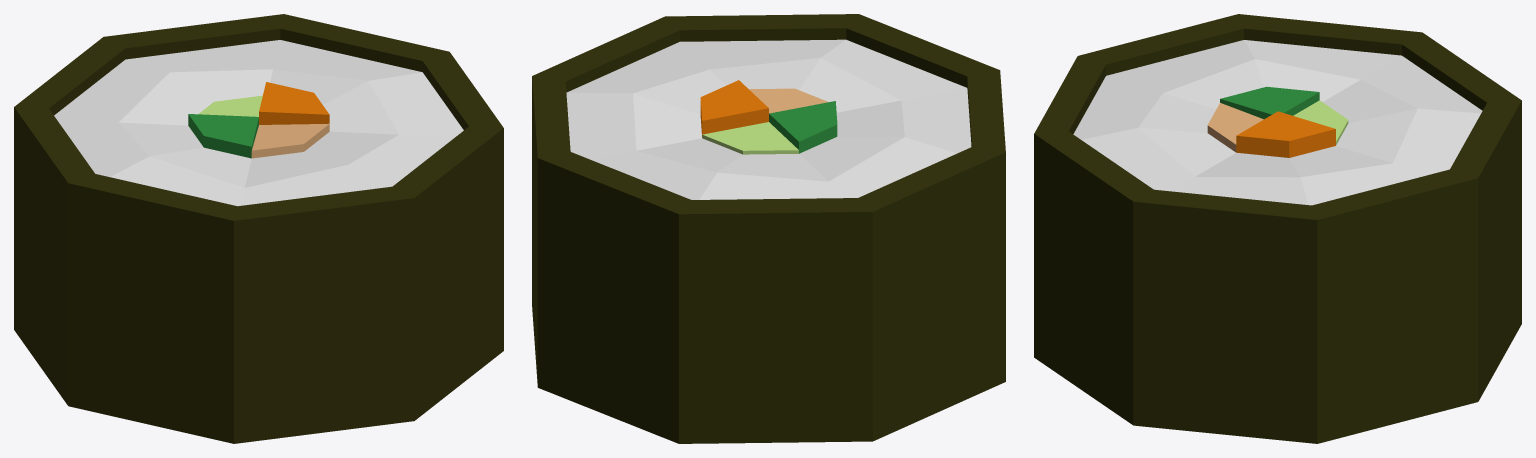
The model's file is m_coloniusLory_Maki_Avocat_002.fbx.
3 views of the same model, side by side, from view 1: azimuth 30°, elevation 25°; view 2: azimuth 150°, elevation 25°; view 3: azimuth 270°, elevation 25° (orthographic). The views are drawn at different scales.
Visible parts, largest first — view 1: m_coloniusLory_Maki_Avocat_002; view 2: m_coloniusLory_Maki_Avocat_002; view 3: m_coloniusLory_Maki_Avocat_002.
Part boxes in pixels (bbox=[...]): m_coloniusLory_Maki_Avocat_002: bbox=[14, 14, 503, 443]; m_coloniusLory_Maki_Avocat_002: bbox=[532, 14, 1005, 443]; m_coloniusLory_Maki_Avocat_002: bbox=[1034, 14, 1521, 443].
Bounding box in the file's own units: 3.89 × 2.07 × 3.89.
